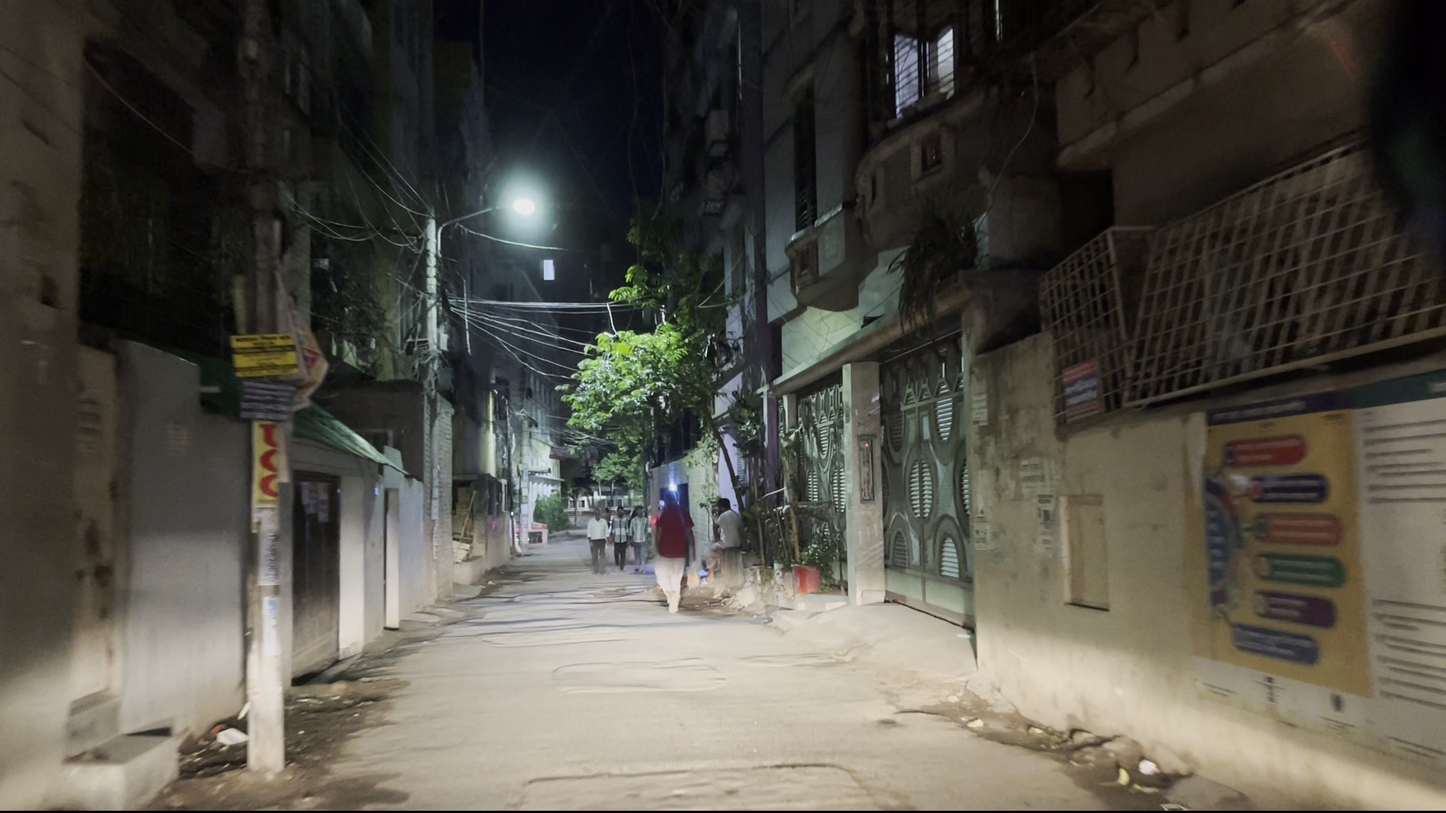person: (647, 483, 700, 611), (700, 503, 759, 571), (607, 504, 633, 565), (584, 503, 606, 570), (628, 508, 647, 559)
